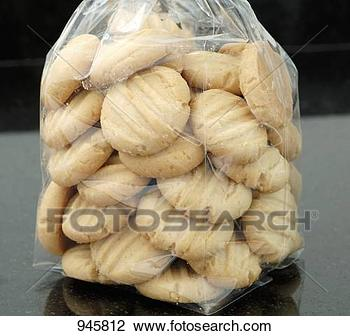plastic bag: (33, 1, 306, 315)
